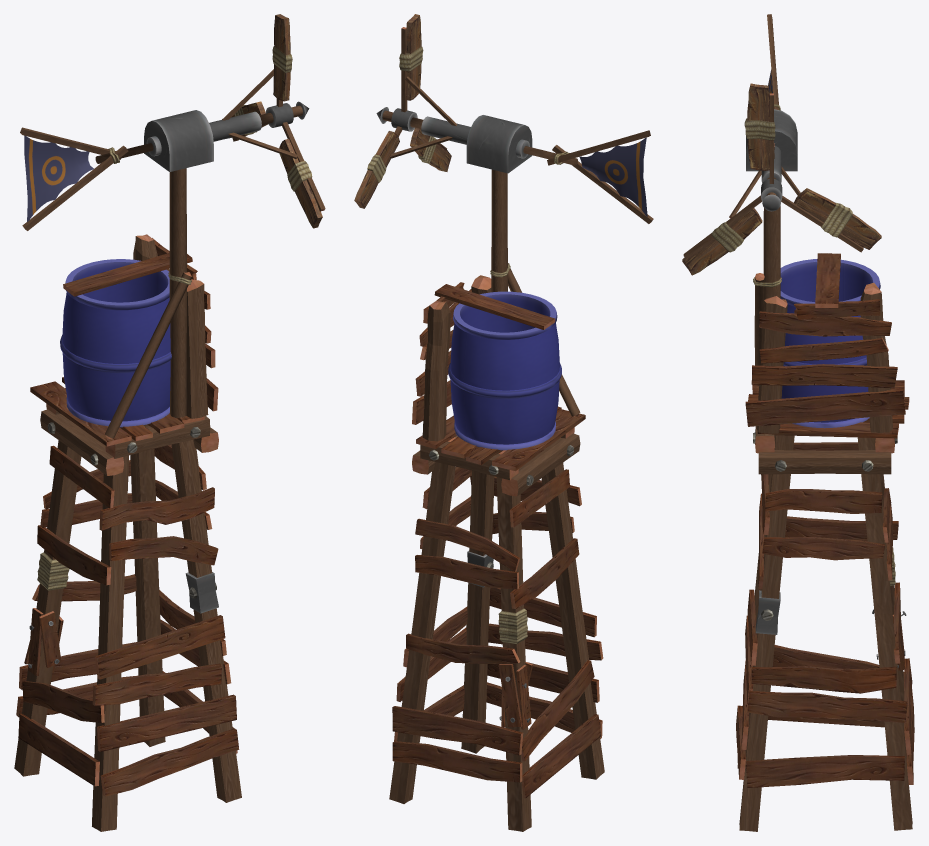
Rendered from Handpainted_Windmill_Tower.glb.
3 renders of one model, left to right at view 1: azimuth 30°, elevation 25°; view 2: azimuth 150°, elevation 25°; view 3: azimuth 270°, elevation 25°, orthographic. The views are drawn at different scales.
Visible parts, largest first — view 1: Cube.096_wood2_0, Cube.096_wood1_0, Cube.096_barrel1_0, Cube.096_metal_0, Cube.096_voile_0, Cube.096_woodTop_0, Cylinder.025_plank1_0, Cylinder.025_wood1_0, Cube.096_rope_0, Cylinder.025_rope_0; view 2: Cube.096_wood2_0, Cube.096_wood1_0, Cube.096_barrel1_0, Cube.096_metal_0, Cube.096_woodTop_0, Cylinder.025_plank1_0, Cube.096_voile_0, Cylinder.025_wood1_0, Cube.096_rope_0, Cylinder.025_rope_0; view 3: Cube.096_wood2_0, Cube.096_wood1_0, Cube.096_barrel1_0, Cylinder.025_plank1_0, Cube.096_metal_0, Cube.096_woodTop_0, Cylinder.025_rope_0, Cylinder.025_wood1_0.
Boxes of the visible parts, <box> form: Cube.096_wood2_0: <box>18,238,239,796</box>; Cube.096_wood1_0: <box>14,105,302,831</box>; Cube.096_barrel1_0: <box>60,259,171,427</box>; Cube.096_metal_0: <box>28,101,309,668</box>; Cube.096_voile_0: <box>24,135,93,221</box>; Cube.096_woodTop_0: <box>16,234,237,795</box>; Cylinder.025_plank1_0: <box>222,14,322,228</box>; Cylinder.025_wood1_0: <box>222,69,325,210</box>; Cube.096_rope_0: <box>37,147,191,590</box>; Cylinder.025_rope_0: <box>234,46,312,191</box>; Cube.096_wood2_0: <box>392,282,602,797</box>; Cube.096_wood1_0: <box>382,110,653,831</box>; Cube.096_barrel1_0: <box>448,291,561,450</box>; Cube.096_metal_0: <box>376,107,532,722</box>; Cube.096_woodTop_0: <box>394,275,603,798</box>; Cylinder.025_plank1_0: <box>354,14,451,208</box>; Cube.096_voile_0: <box>579,137,647,216</box>; Cylinder.025_wood1_0: <box>390,28,457,158</box>; Cube.096_rope_0: <box>490,151,569,644</box>; Cylinder.025_rope_0: <box>367,46,436,182</box>; Cube.096_wood2_0: <box>736,253,914,787</box>; Cube.096_wood1_0: <box>737,14,912,831</box>; Cube.096_barrel1_0: <box>780,259,880,428</box>; Cylinder.025_plank1_0: <box>682,83,881,275</box>; Cube.096_metal_0: <box>746,109,906,667</box>; Cube.096_woodTop_0: <box>739,273,913,784</box>; Cylinder.025_rope_0: <box>711,118,852,252</box>; Cylinder.025_wood1_0: <box>683,95,863,258</box>.
Bounding box in the file's own units: 366 × 925 × 252.
9 materials, 9 textured.
